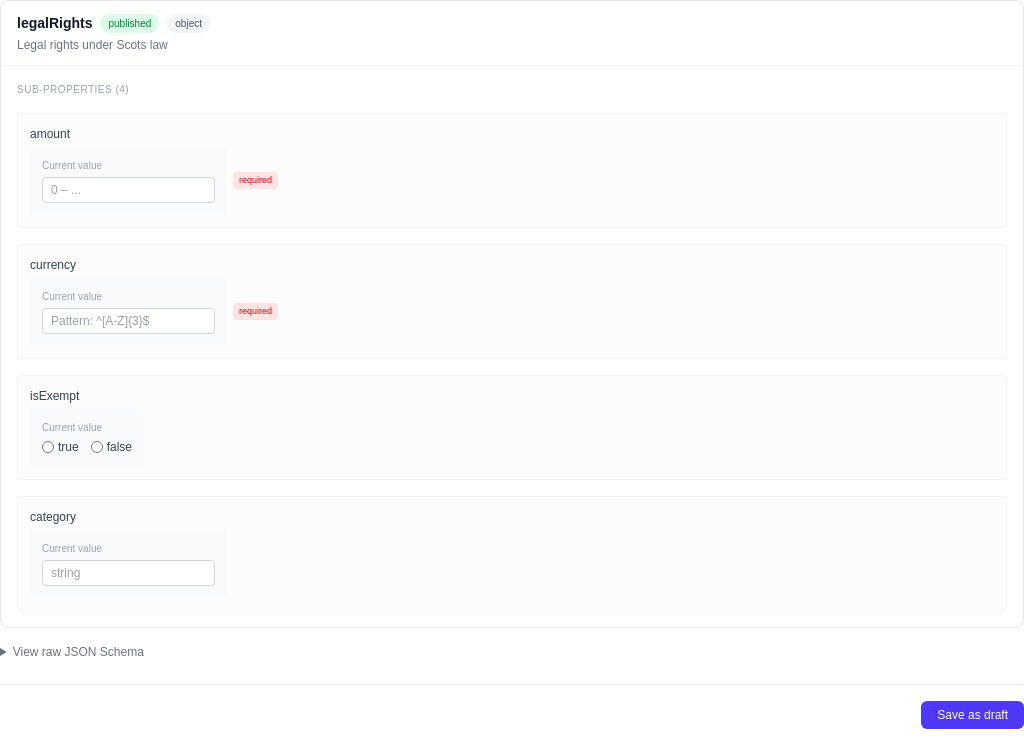
Test case: PropertyEditor › shows error message when saveDraft fails
Click the button "Save as draft".
click(973, 715)  # box left=921, top=701, right=1023, bottom=729
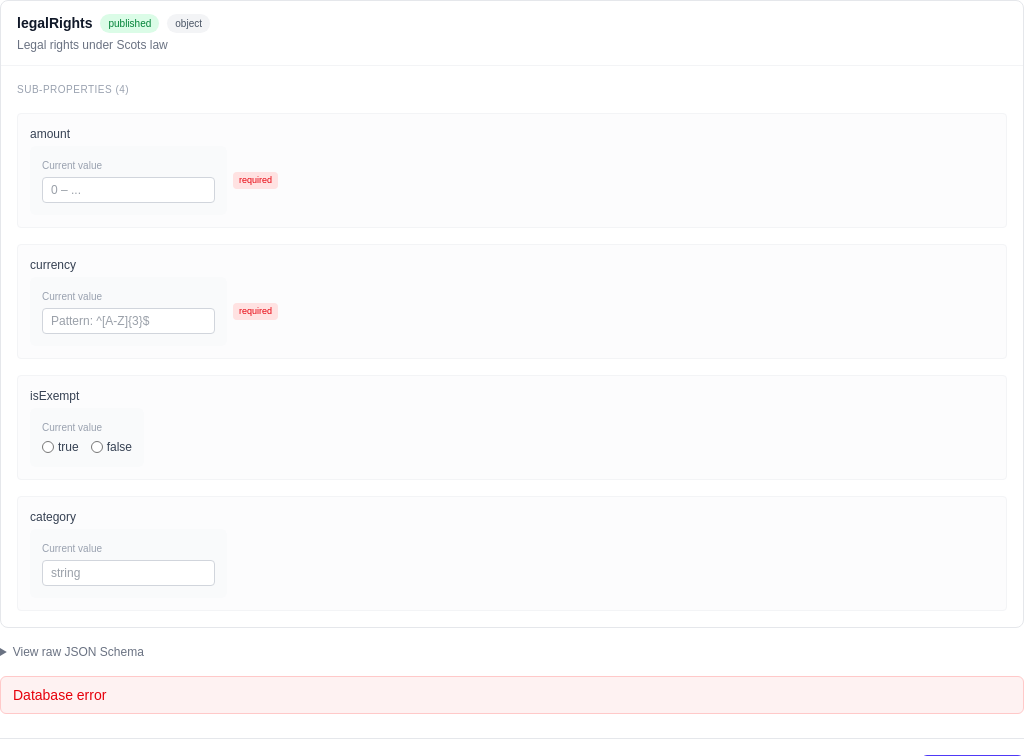
Check: the text "Database error" is shown, box left=0, top=676, right=1023, bottom=714
